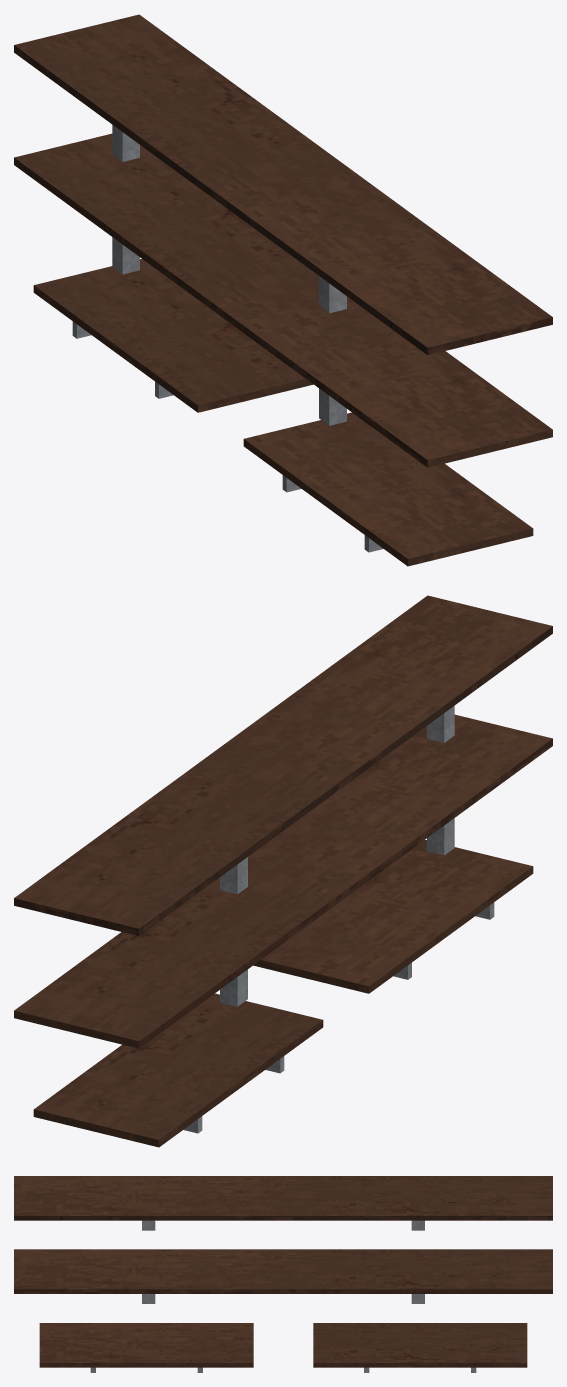
The model's file is Wall_Shelves.fbx.
3 views of the same model, one above another, from view 1: azimuth 30°, elevation 25°; view 2: azimuth 150°, elevation 25°; view 3: azimuth 270°, elevation 25° (orthographic). The views are drawn at different scales.
Visible parts, largest first — view 1: Wall shelves; view 2: Wall shelves; view 3: Wall shelves.
Boxes of the visible parts, <box> form: Wall shelves: <box>14,14,552,566</box>; Wall shelves: <box>14,595,552,1147</box>; Wall shelves: <box>14,1176,552,1372</box>.
Bounding box in the file's own units: 332 × 628 × 1899.
1 material, 1 textured.
